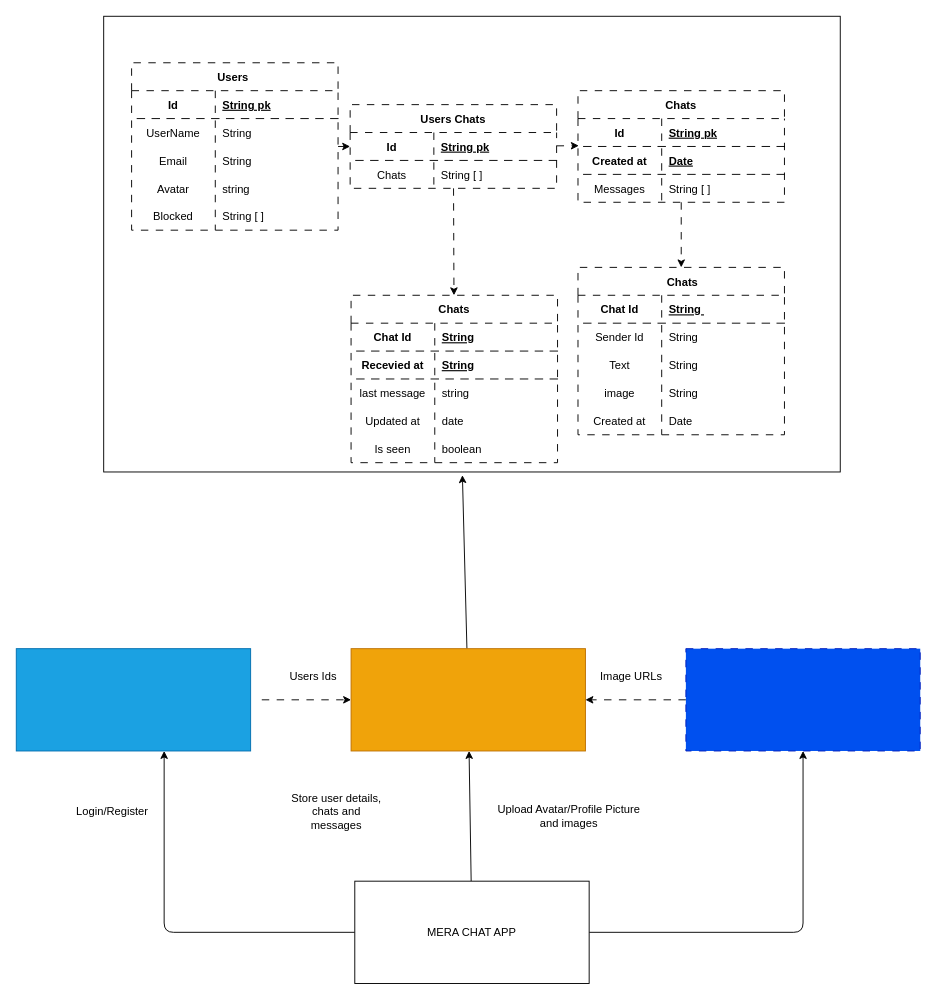
This 937x1000 diagram has some shape labels left out. The shapes that lost their labels are listed below. From the top down, each one's centre as x and y in pixels, then its label:
At (133,699): "Firebase Autentication".
At (467,699): "Firebase Database".
At (802,699): "Firebase Storage".
